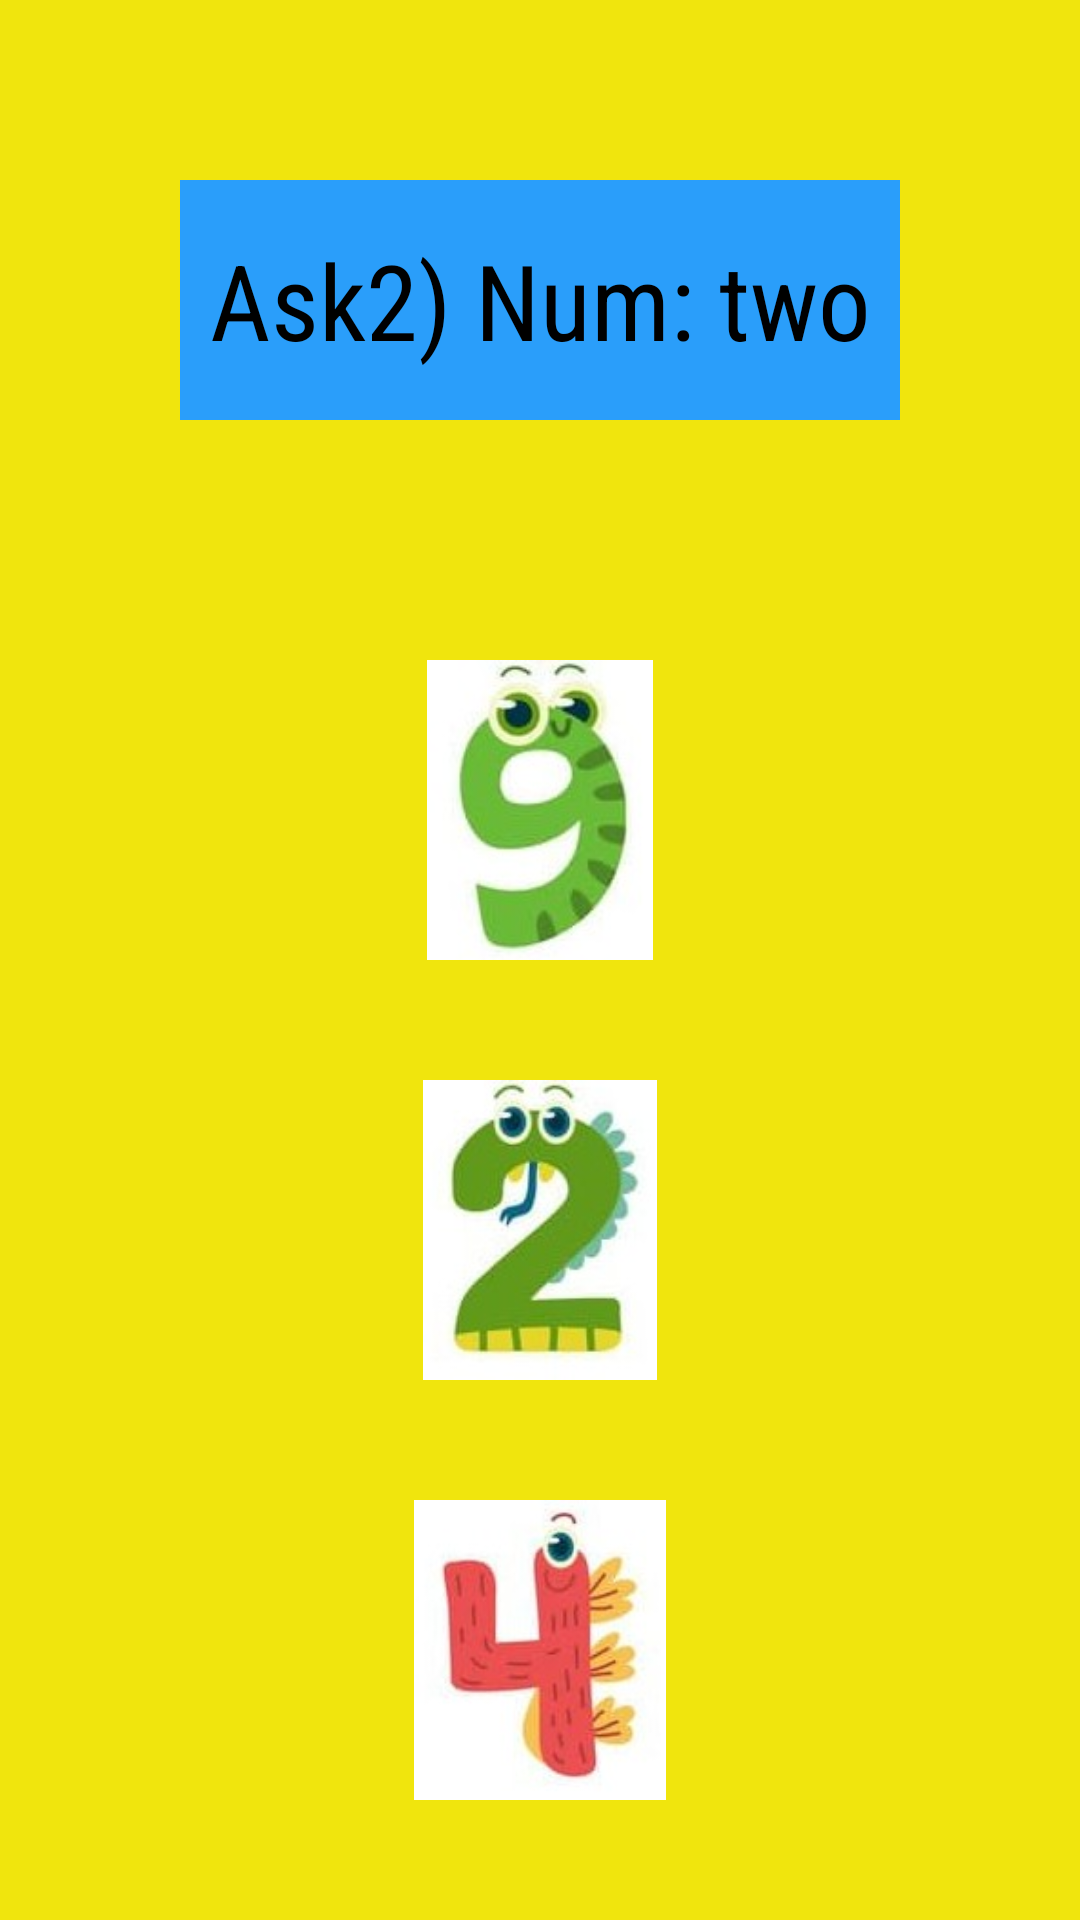

Named icons in this screenshot (1080px x 1920px) and their centers, [x,y]:
cuatro: [540,1650]
dos: [540,1230]
nueve: [540,810]
